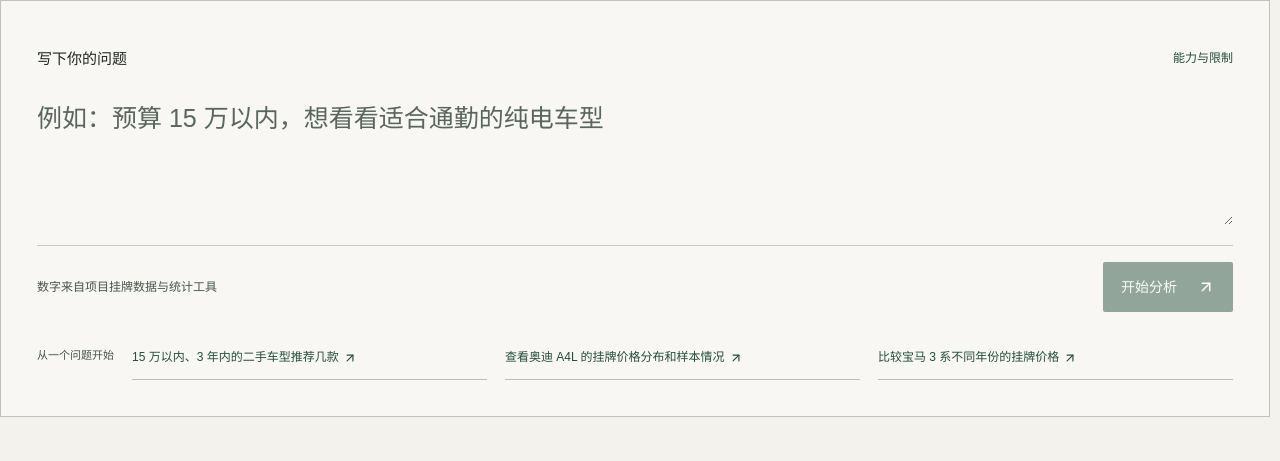
QueryComposer › keeps live capability limits available in a collapsed disclosure
What coordinates should you click on to do the following:
click the heading "能力与限制"
I would click on:
 (1203, 58)
Its box is [1173,51,1233,65].
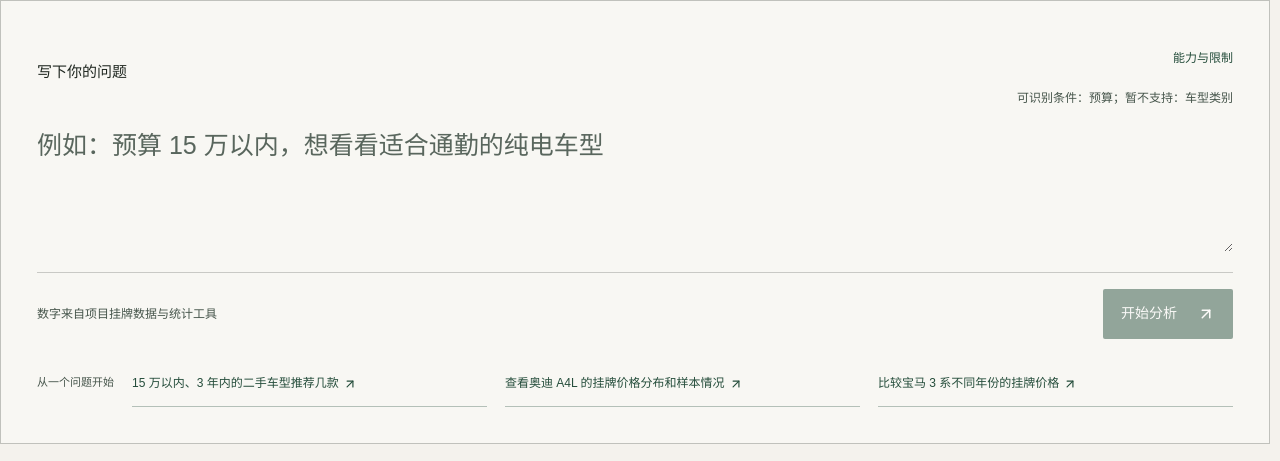
Now the text with class "composer__hint" shows "暂不支持：车型类别", box [1017,91,1233,105]
